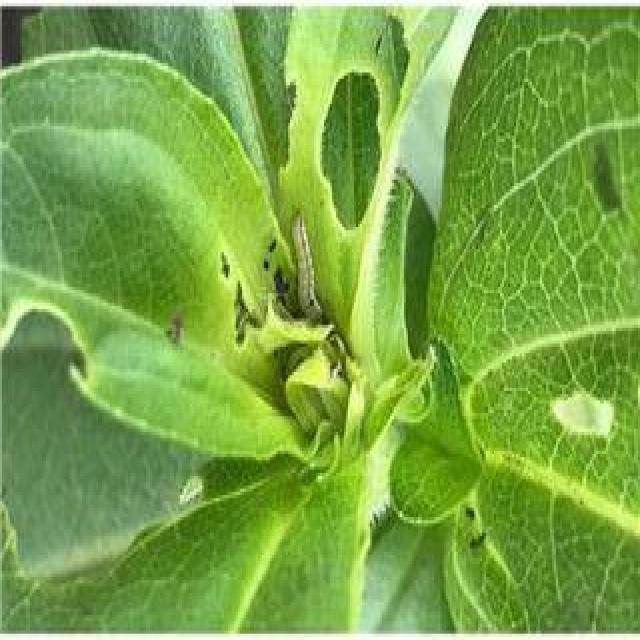BeetArmyWorm-Larva-: (284, 206, 328, 331)
